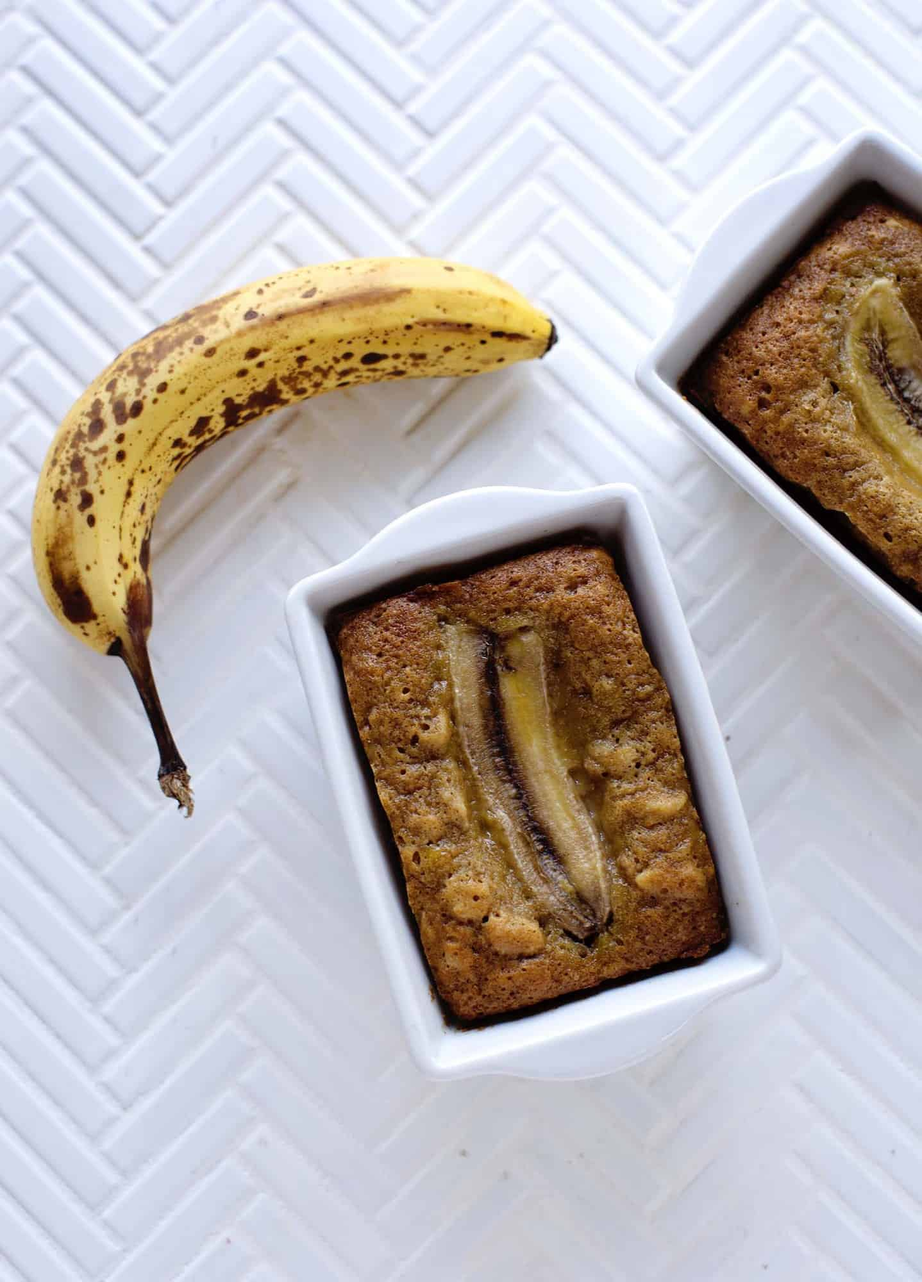banana: (29, 265, 564, 818)
